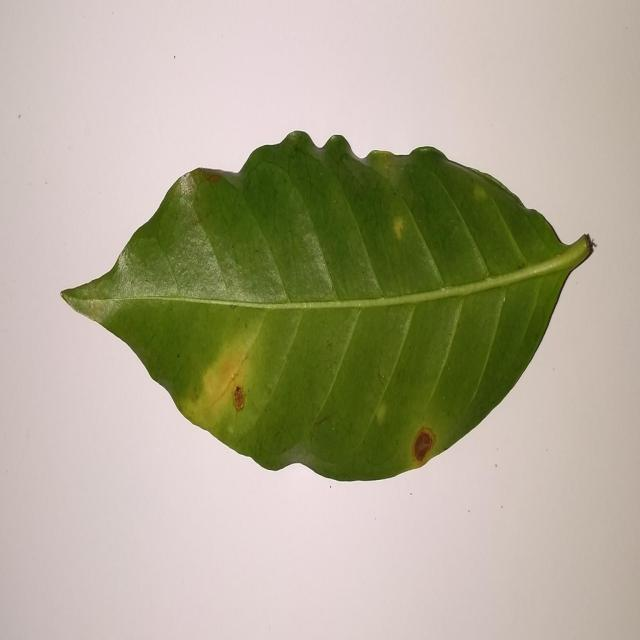Enfermedad-Mancha-de-hierro: (59, 131, 596, 484)
